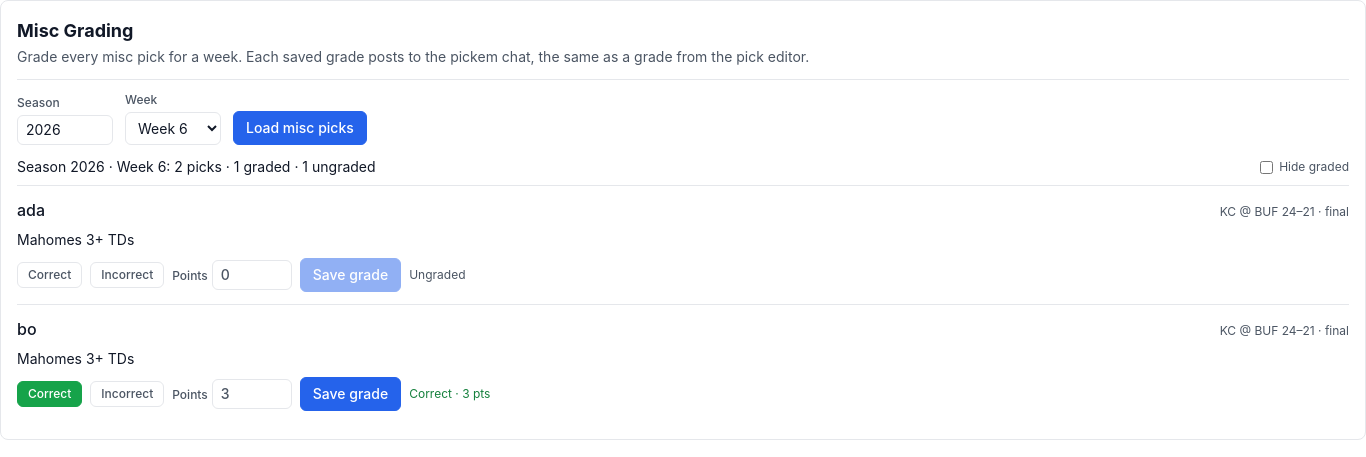
Test: MiscGradingPanel › saves a grade for one row and updates the summary
The width and height of the screenshot is (1366, 457).
Check: the text "Season 2026 · Week 6: 2 picks · 1 graded · 1 ungraded" is shown, box [17,157,376,177]
Check: the button "Save grade" below "ada" is disabled, box [300,258,401,292]
Click the button "Incorrect" below "ada" at (127, 275), box [90,262,164,288]
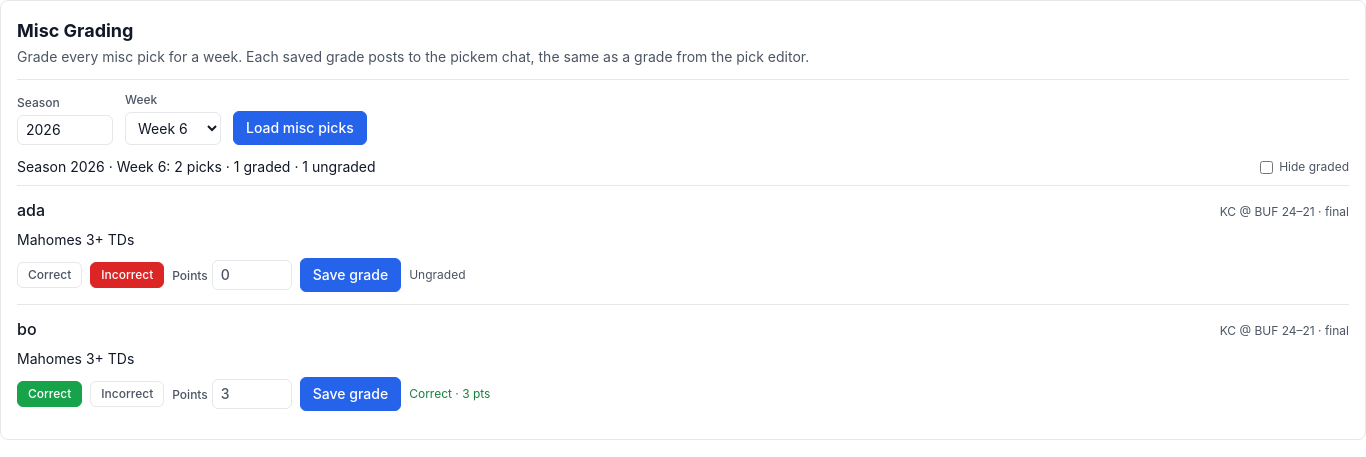
Replace the text in the number field labelled "Points" below "ada" with "-1" at (252, 275), box [212,260,292,290]
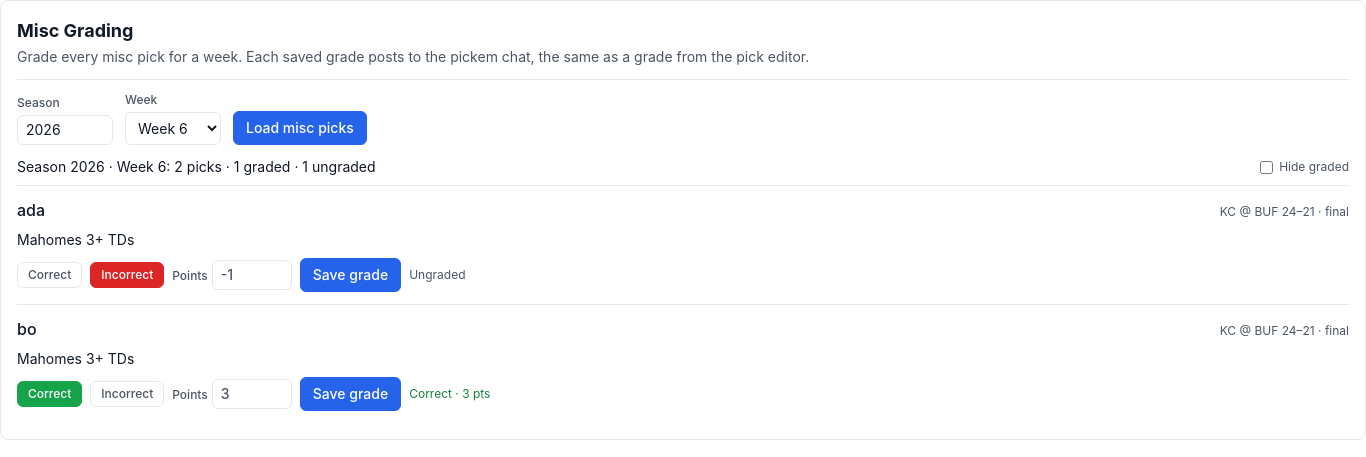
Click the button "Save grade" below "ada" at (350, 275), box [300,258,401,292]
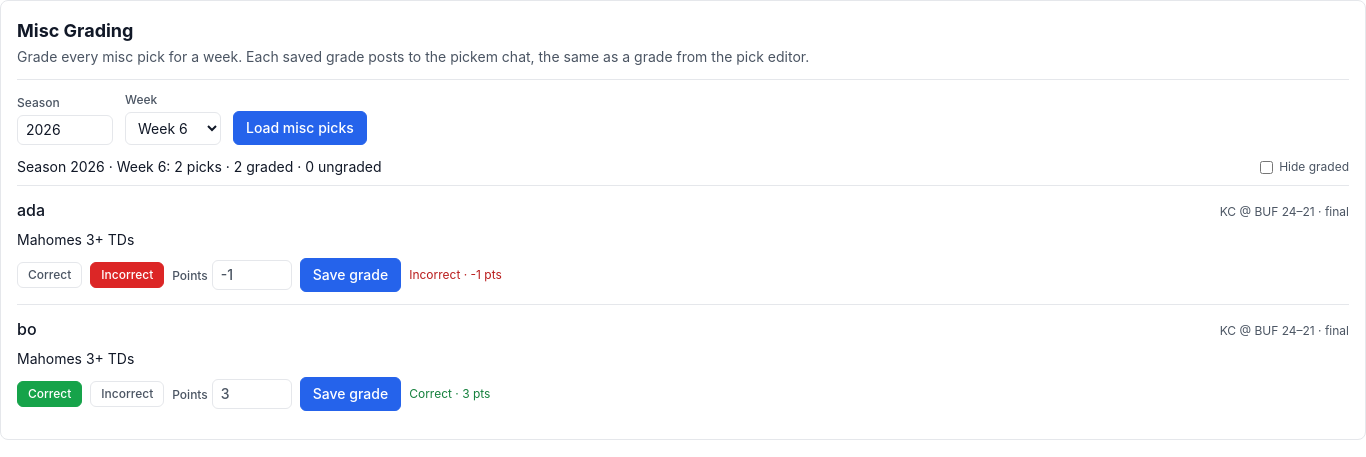
Check: the text with test id "misc-grading-summary" shows "2 graded · 0 ungraded", box [17,157,382,177]
